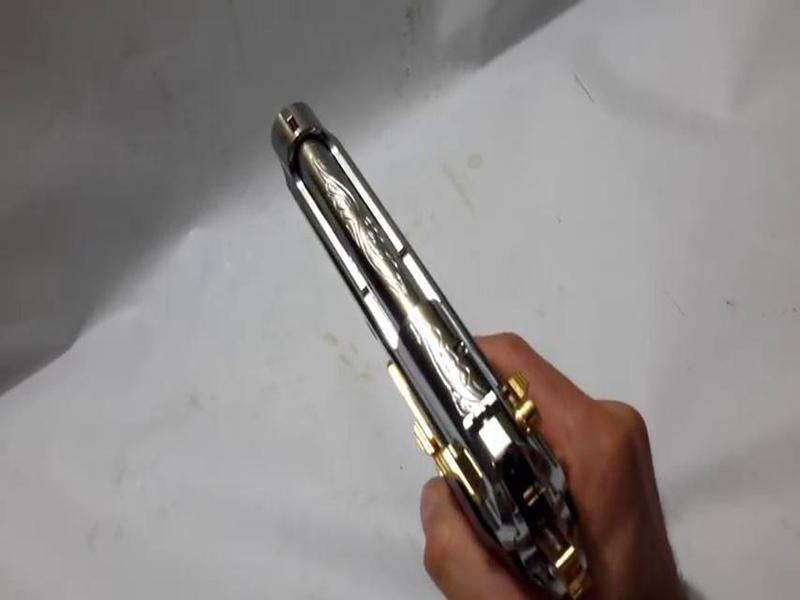Pistola: (230, 94, 622, 594)
